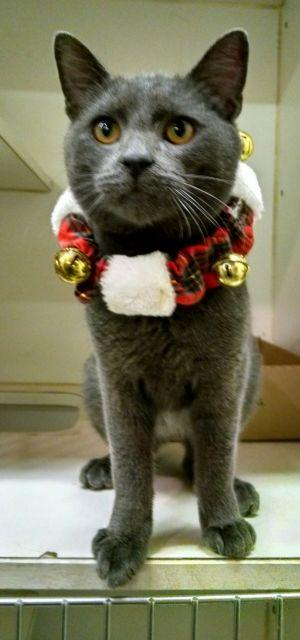rblue: (34, 5, 279, 252)
